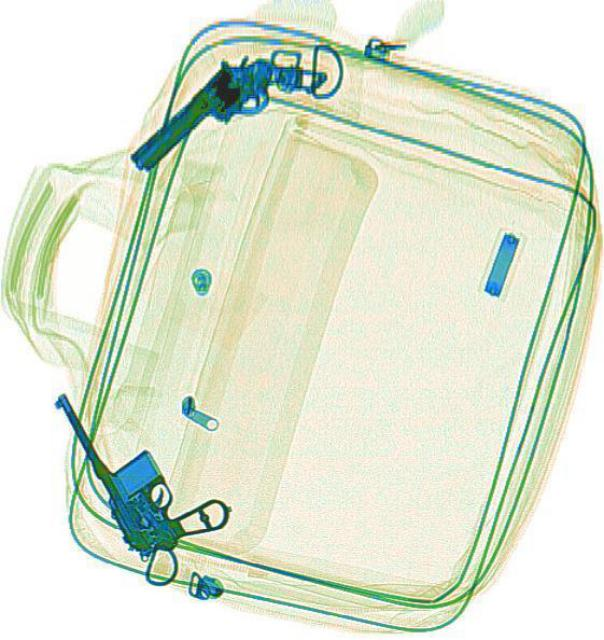Gun: (120, 13, 328, 213), (50, 350, 233, 564)
